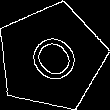O_SE: (18, 23, 85, 90)
